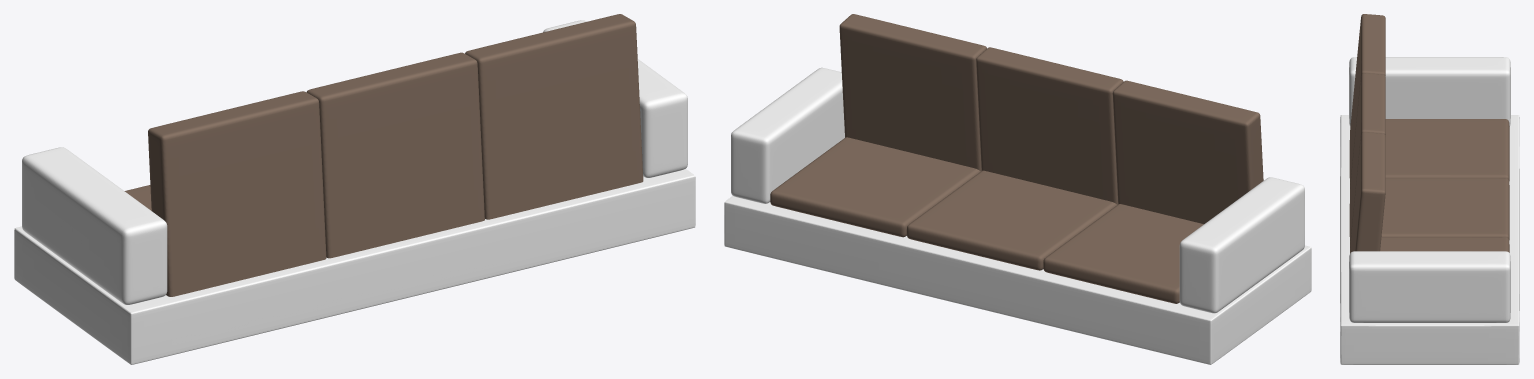
3 renders of one model, left to right at view 1: azimuth 30°, elevation 25°; view 2: azimuth 150°, elevation 25°; view 3: azimuth 270°, elevation 25°, orthographic. The views are drawn at different scales.
Visible parts, largest first — view 1: MainCouch_Base, MainCouch_BackCushion_1, MainCouch_BackCushion_3, MainCouch_BackCushion_2, MainCouch_Armrest_Left, MainCouch_Armrest_Right; view 2: MainCouch_Base, MainCouch_BackCushion_3, MainCouch_BackCushion_2, MainCouch_BackCushion_1, MainCouch_SeatCushion_2, MainCouch_SeatCushion_3, MainCouch_Armrest_Left, MainCouch_Armrest_Right, MainCouch_SeatCushion_1; view 3: MainCouch_Base, MainCouch_Armrest_Right, MainCouch_Armrest_Left, MainCouch_SeatCushion_2, MainCouch_SeatCushion_1, MainCouch_BackCushion_3, MainCouch_BackCushion_1, MainCouch_BackCushion_2, MainCouch_SeatCushion_3.
Part boxes in pixels (<box>): MainCouch_Base: <box>14,168,695,364</box>; MainCouch_BackCushion_1: <box>148,91,326,296</box>; MainCouch_BackCushion_3: <box>465,14,643,219</box>; MainCouch_BackCushion_2: <box>306,52,484,258</box>; MainCouch_Armrest_Left: <box>22,147,167,304</box>; MainCouch_Armrest_Right: <box>543,20,687,177</box>; MainCouch_Base: <box>724,196,1311,364</box>; MainCouch_BackCushion_3: <box>839,14,986,171</box>; MainCouch_BackCushion_2: <box>976,47,1123,204</box>; MainCouch_BackCushion_1: <box>1112,80,1263,223</box>; MainCouch_SeatCushion_2: <box>906,170,1116,270</box>; MainCouch_SeatCushion_3: <box>770,137,980,237</box>; MainCouch_Armrest_Left: <box>1179,177,1304,313</box>; MainCouch_Armrest_Right: <box>731,67,844,203</box>; MainCouch_SeatCushion_1: <box>1043,204,1203,303</box>; MainCouch_Base: <box>1340,115,1519,364</box>; MainCouch_Armrest_Right: <box>1349,251,1510,322</box>; MainCouch_Armrest_Left: <box>1349,57,1510,126</box>; MainCouch_SeatCushion_2: <box>1381,178,1509,240</box>; MainCouch_SeatCushion_1: <box>1385,119,1509,181</box>; MainCouch_BackCushion_3: <box>1350,132,1385,253</box>; MainCouch_BackCushion_1: <box>1349,14,1385,188</box>; MainCouch_BackCushion_2: <box>1349,73,1385,247</box>; MainCouch_SeatCushion_3: <box>1380,237,1509,252</box>.
Size of the model in its own units: 5 by 1.75 by 1.8.
